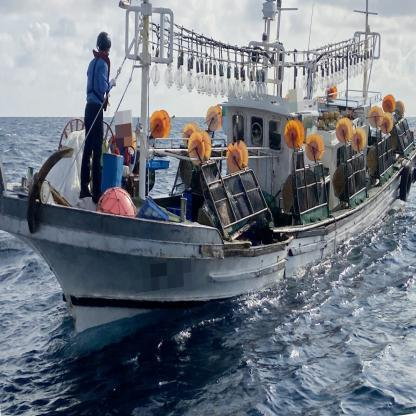Ship: (3, 24, 416, 331)
